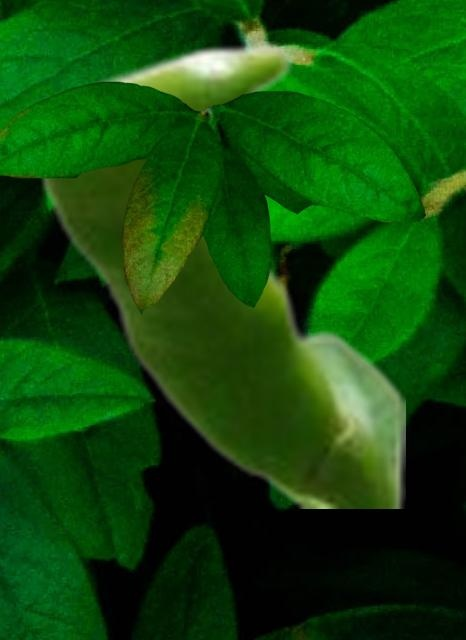green_chili: (38, 41, 404, 507)
